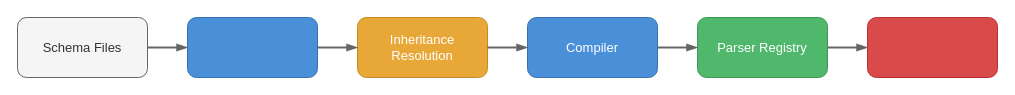
Image size: 1015x95. Some labels were removed from this diagram. The box of each missing label's shape, as (x1, y1, x2, y2) in pixels:
LLM Context: (866, 16, 998, 78)
MetaModel Loader: (186, 16, 318, 78)
